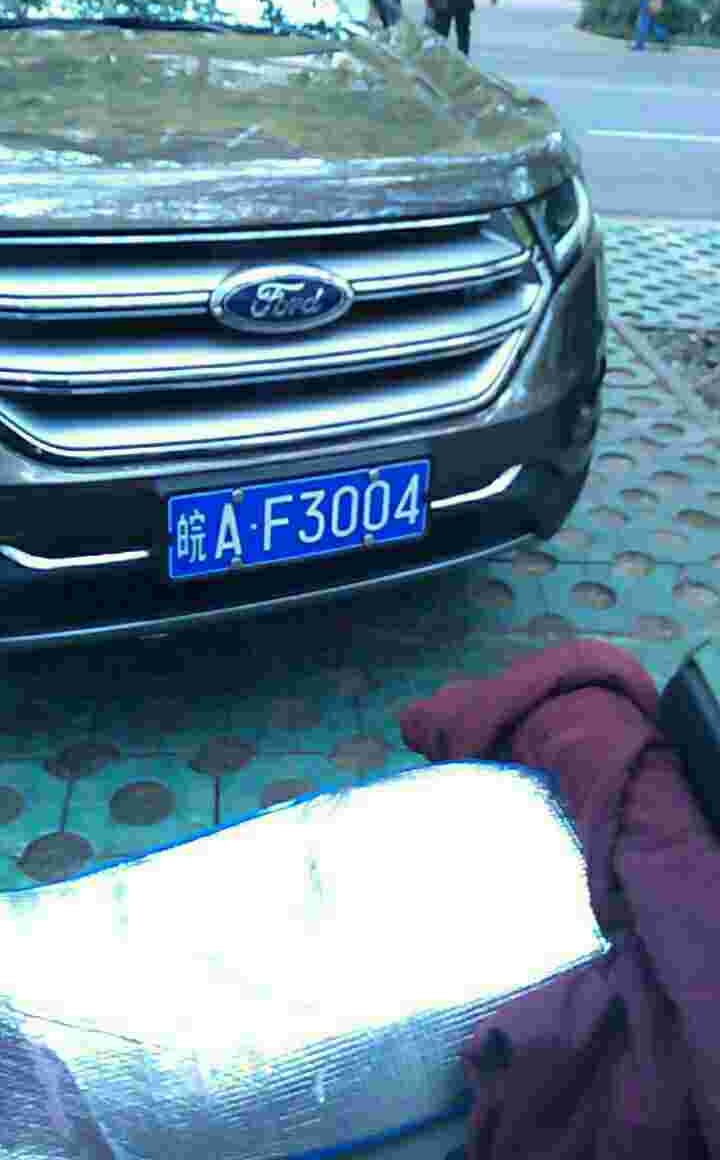license_plate: (167, 448, 447, 580)
